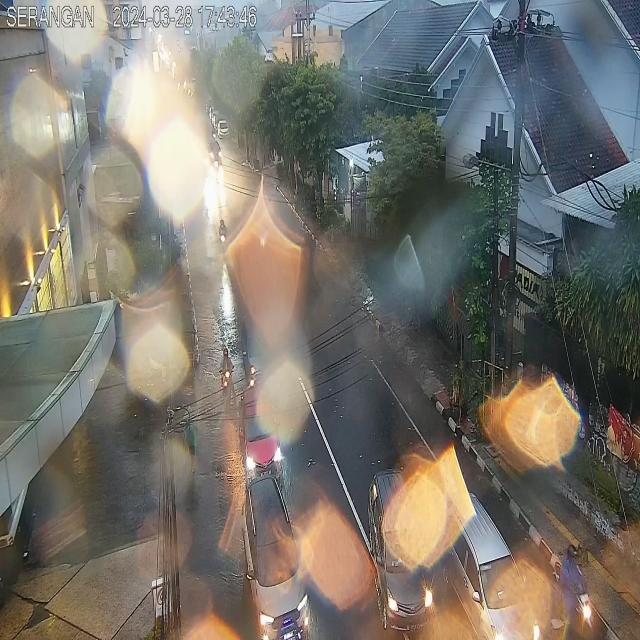car: (446, 489, 536, 640), (242, 473, 310, 640), (370, 468, 436, 640), (240, 392, 284, 486)
motorcycle: (558, 539, 596, 640), (220, 344, 235, 414)
